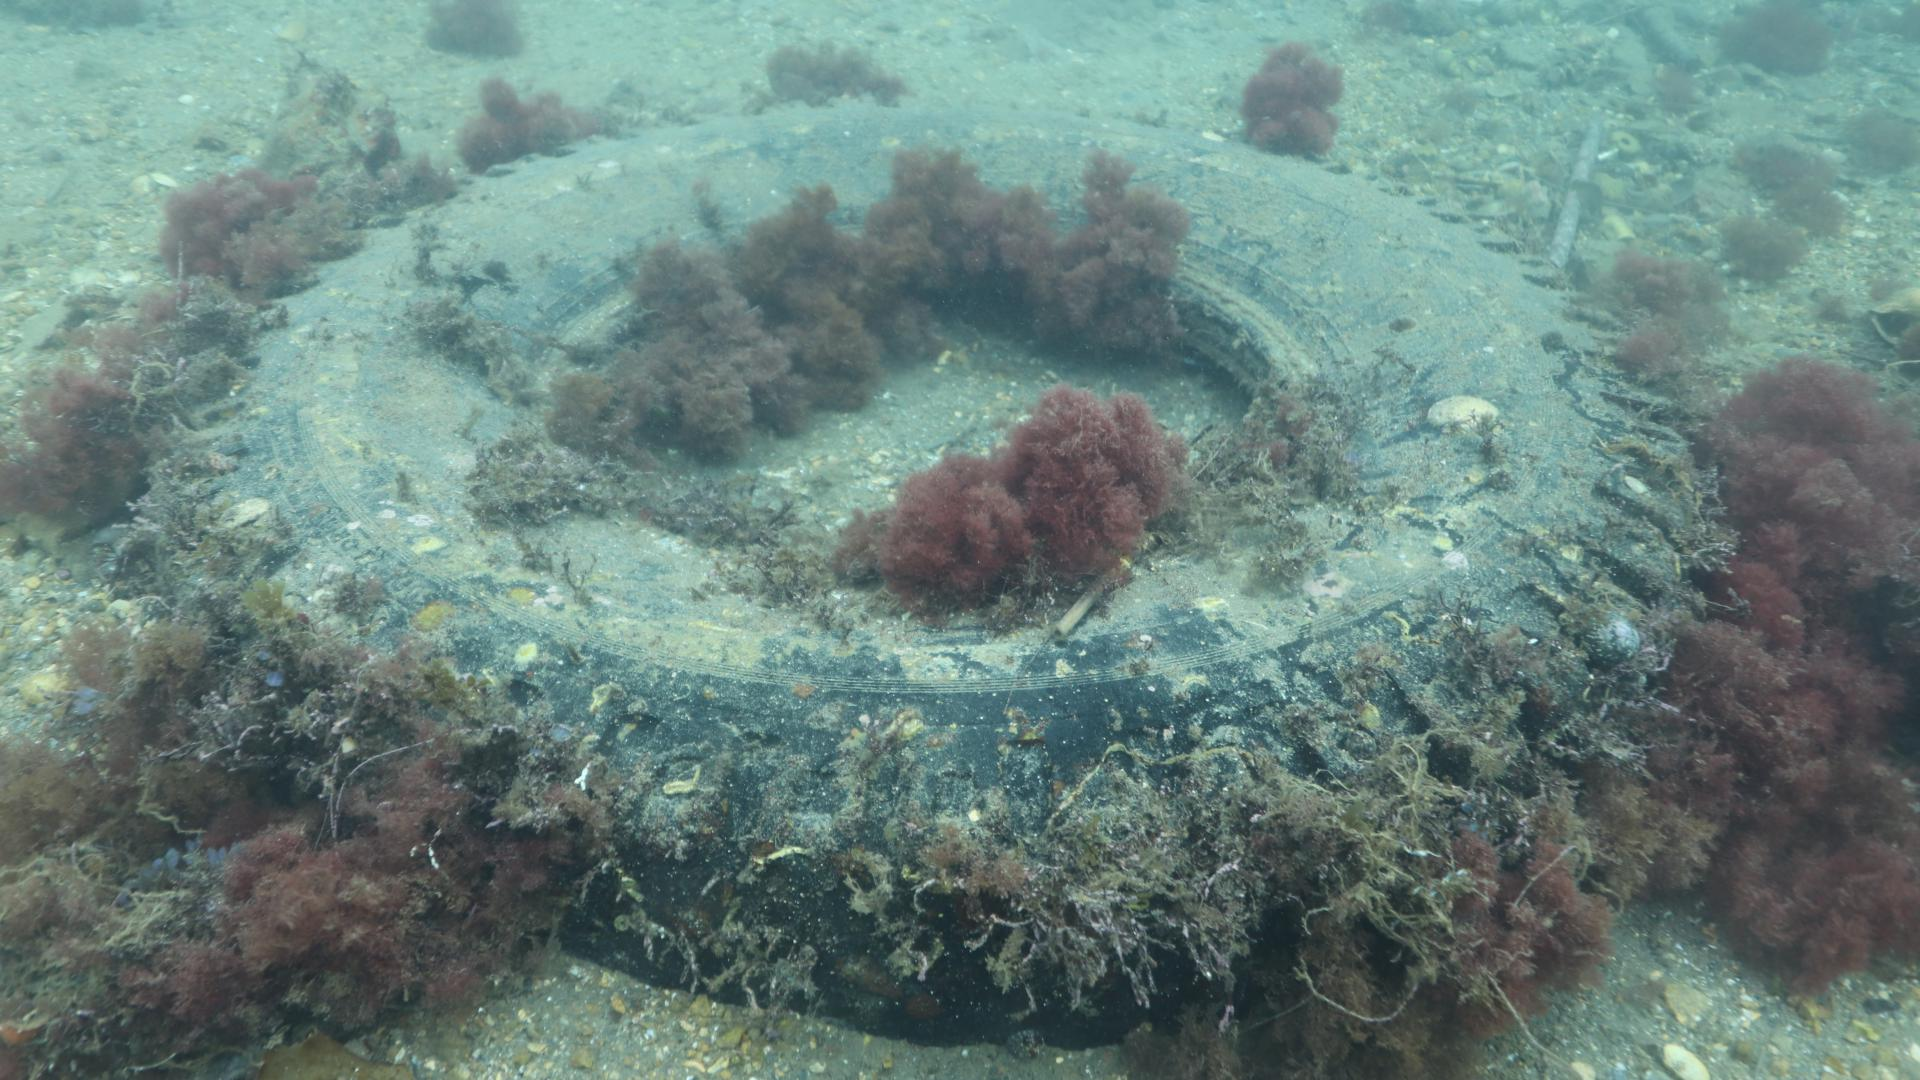tire: (182, 84, 1695, 1048)
